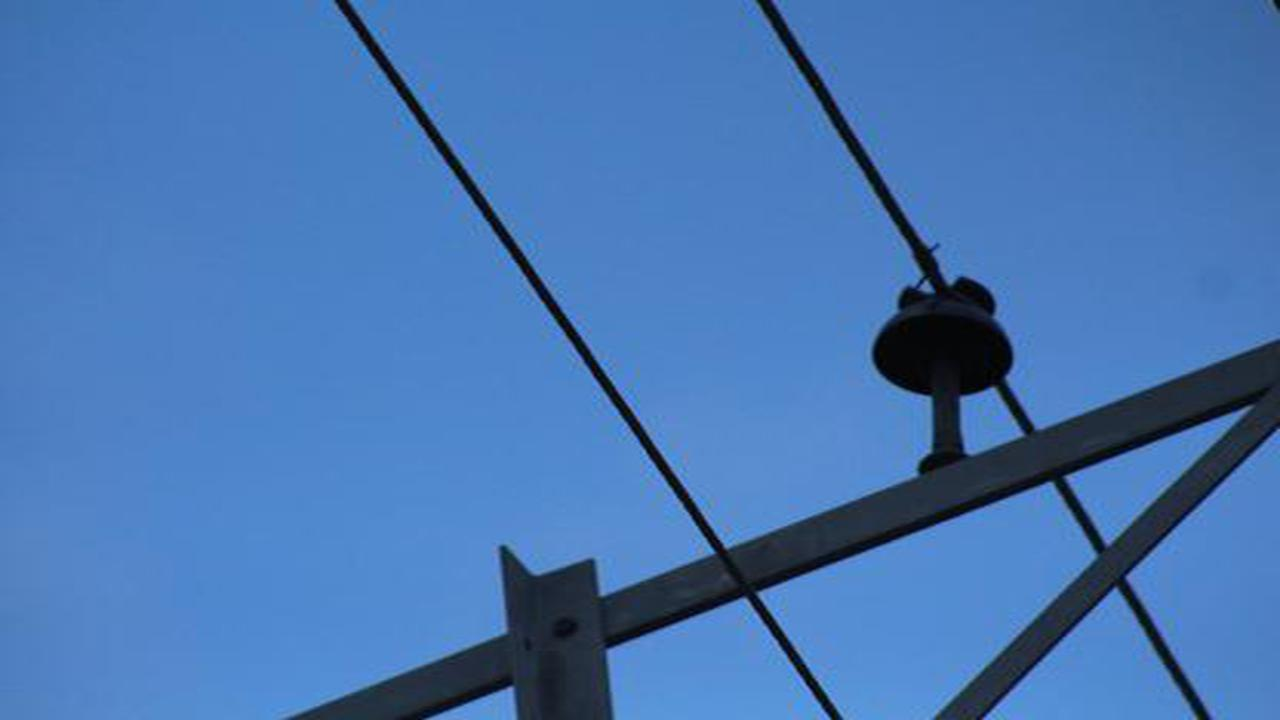insulator_pin: (859, 274, 1022, 407)
